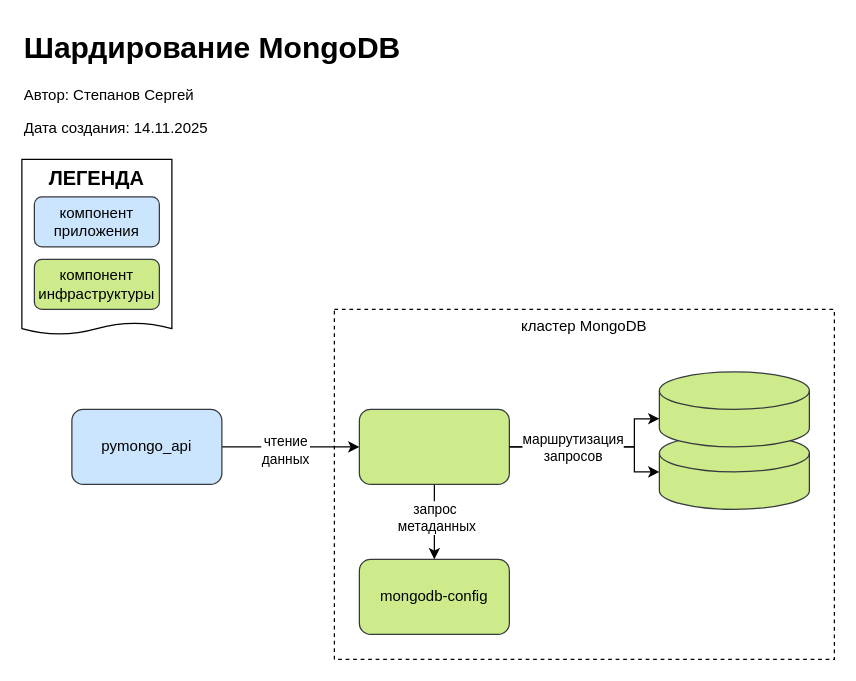
Image size: 856x681. Some labels were removed from this diagram. The shapes that lost their labels are listed below. From the top down, each one's centre as x and y in pixels, then its label:
At point 733,409: "mongodb-shard1".
At point 433,446: "mongos".
At point 733,471: "mongodb-shard2".
